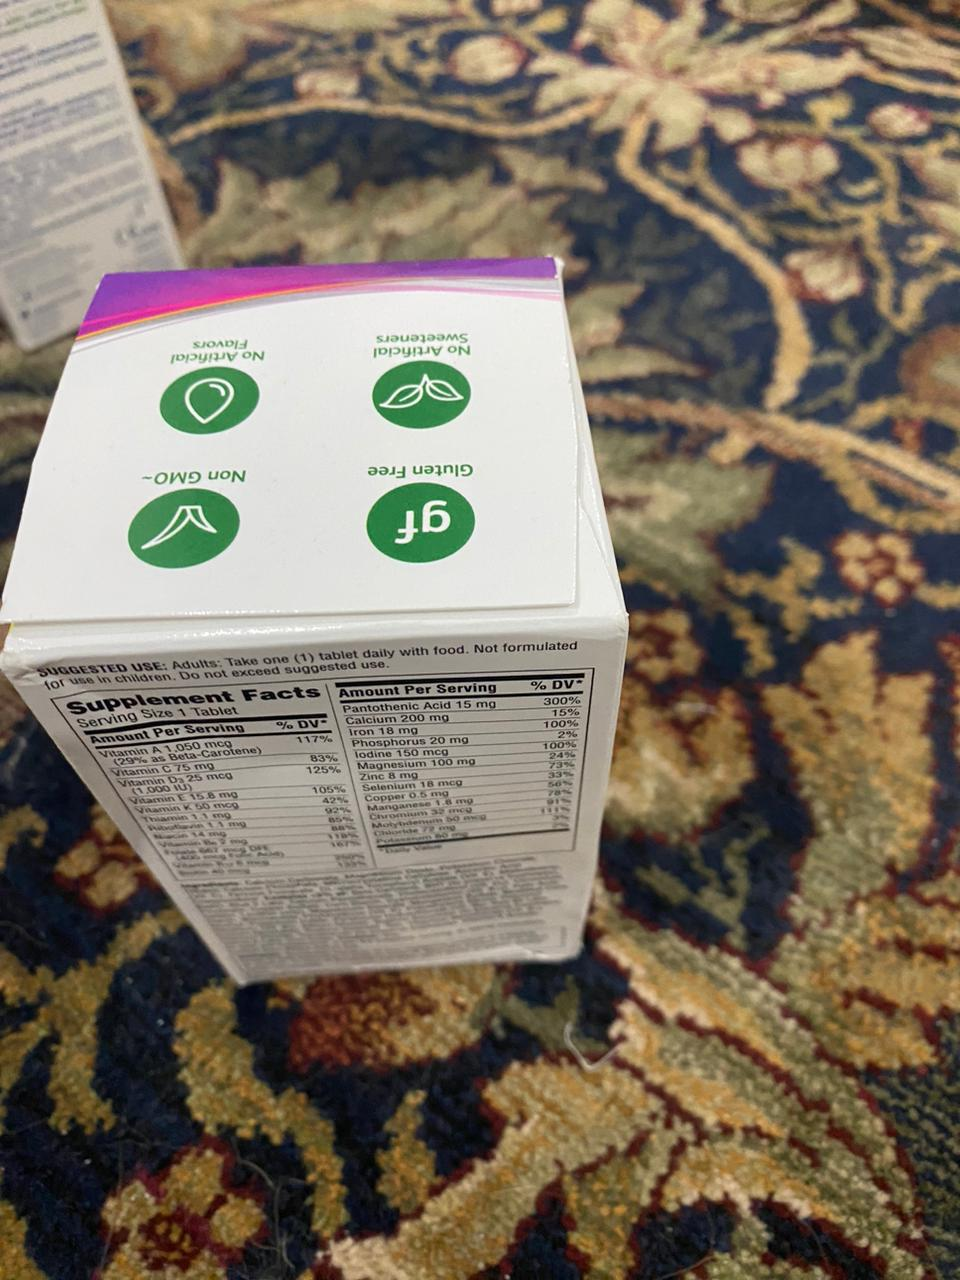Centrum: (5, 250, 630, 974)
Physiomer: (5, 4, 190, 353)
